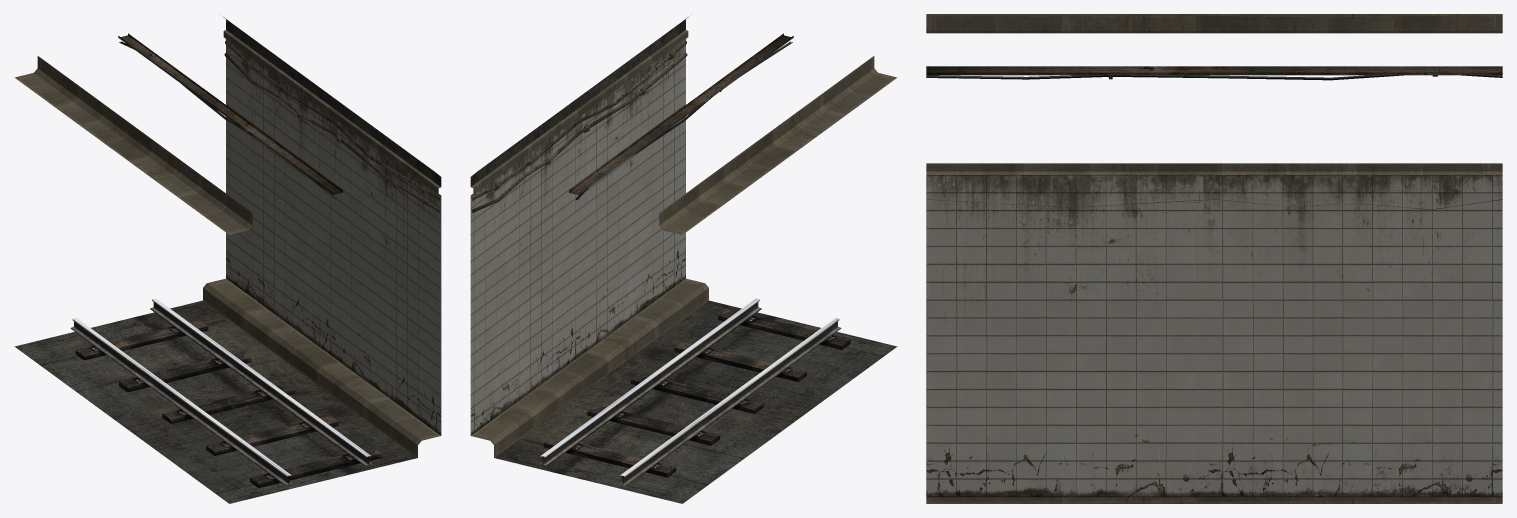
File: TunnelState.fbx
The picture shows the model from 3 angles, left to right: view 1: azimuth 30°, elevation 25°; view 2: azimuth 150°, elevation 25°; view 3: azimuth 270°, elevation 25°; orthographic projection. The views are drawn at different scales.
Visible parts, largest first — view 1: TunnelSideA1; view 2: TunnelSideA1; view 3: TunnelSideA1.
Part boxes in pixels (x1,y1,x2,y2): TunnelSideA1: (14,17,441,503); TunnelSideA1: (470,17,897,503); TunnelSideA1: (926,14,1502,503).
Bounding box in the file's own units: 428 × 557 × 751.
